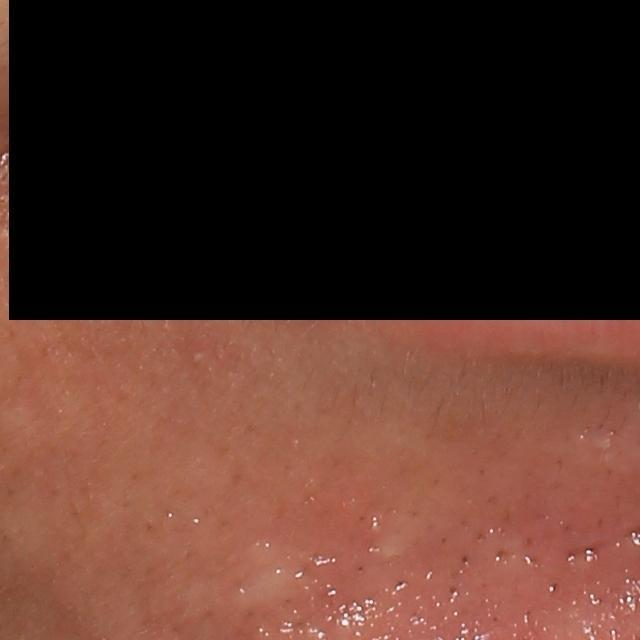hypertrophic_scar: (222, 536, 312, 614), (374, 521, 415, 563)
